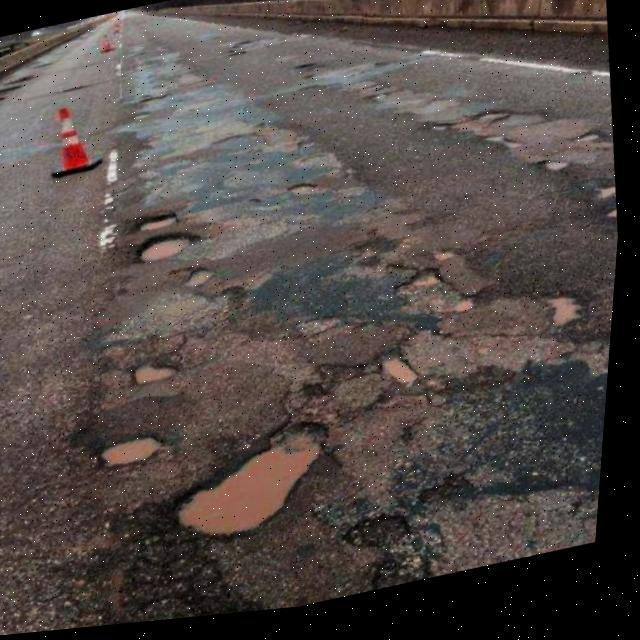Pothole: (191, 407, 345, 556), (352, 490, 470, 603), (368, 333, 454, 414), (124, 199, 205, 282), (93, 424, 185, 487), (531, 288, 604, 350), (397, 261, 465, 311), (584, 182, 626, 253)
